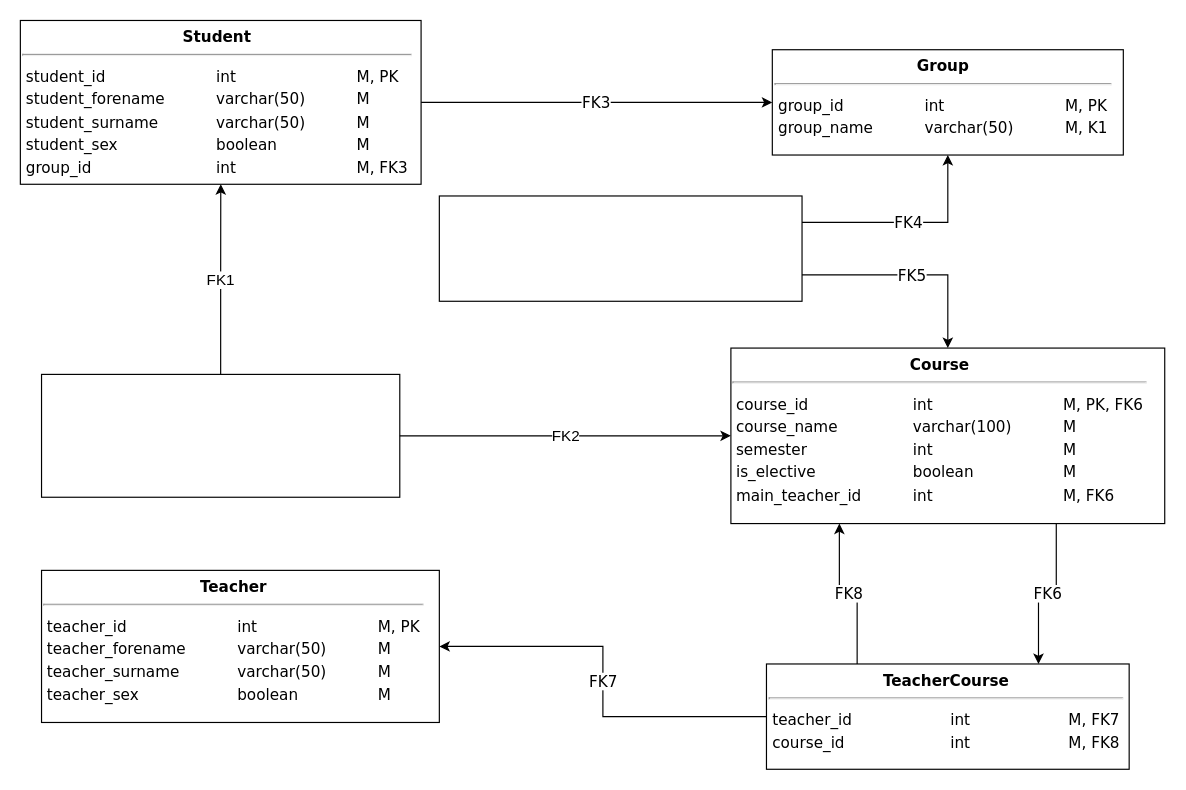
Image size: 1186x790. Some labels were removed from this diagram. Here are the shapes that lost their labels. From the top down, the centre of each, then its label:
At pixel 620 248: "GroupCourse group_id int M, FK4 course_id int M, FK5".
At pixel 220 435: "Mark student_id int M, FK1 course_id int M, FK2 points decimal(3, 2) M".
